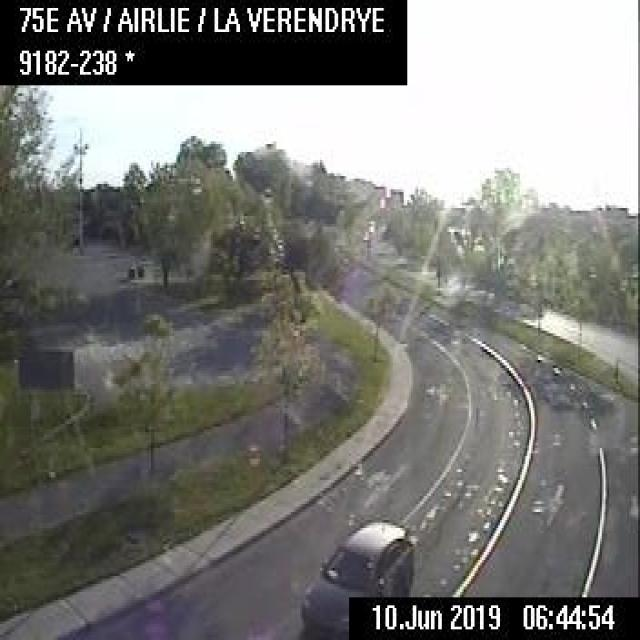vehicle: (298, 515, 413, 637)
